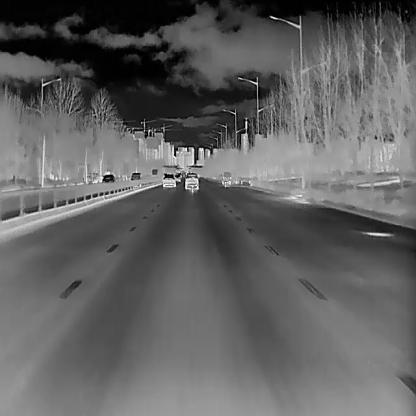car: (184, 172, 198, 190), (162, 171, 175, 187), (221, 171, 231, 186), (101, 173, 114, 183), (130, 171, 140, 180), (150, 168, 158, 177), (174, 172, 180, 181)
